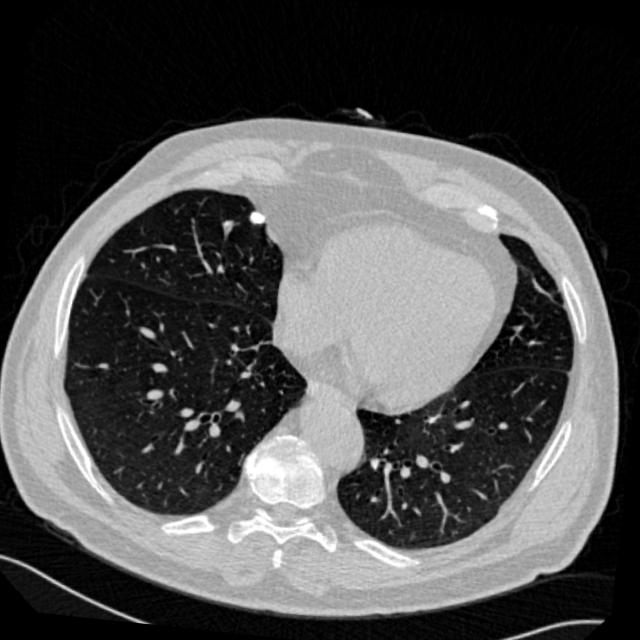nodule: (238, 199, 273, 234)
